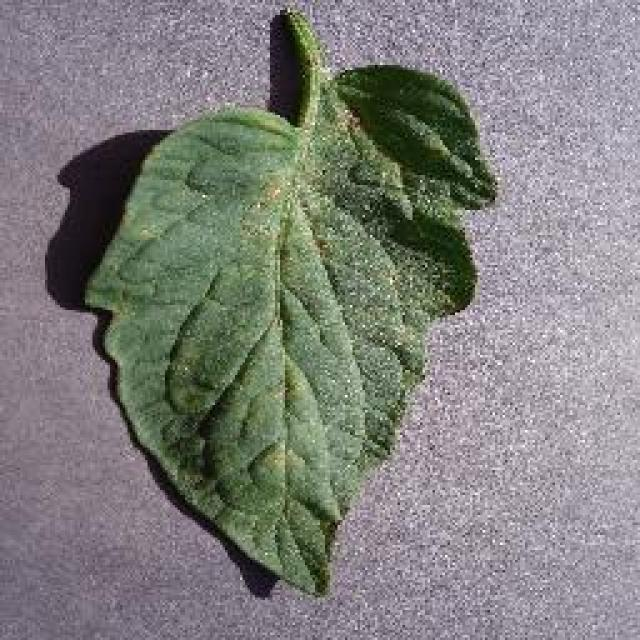Tomato___Target_Spot: (85, 10, 495, 592)
